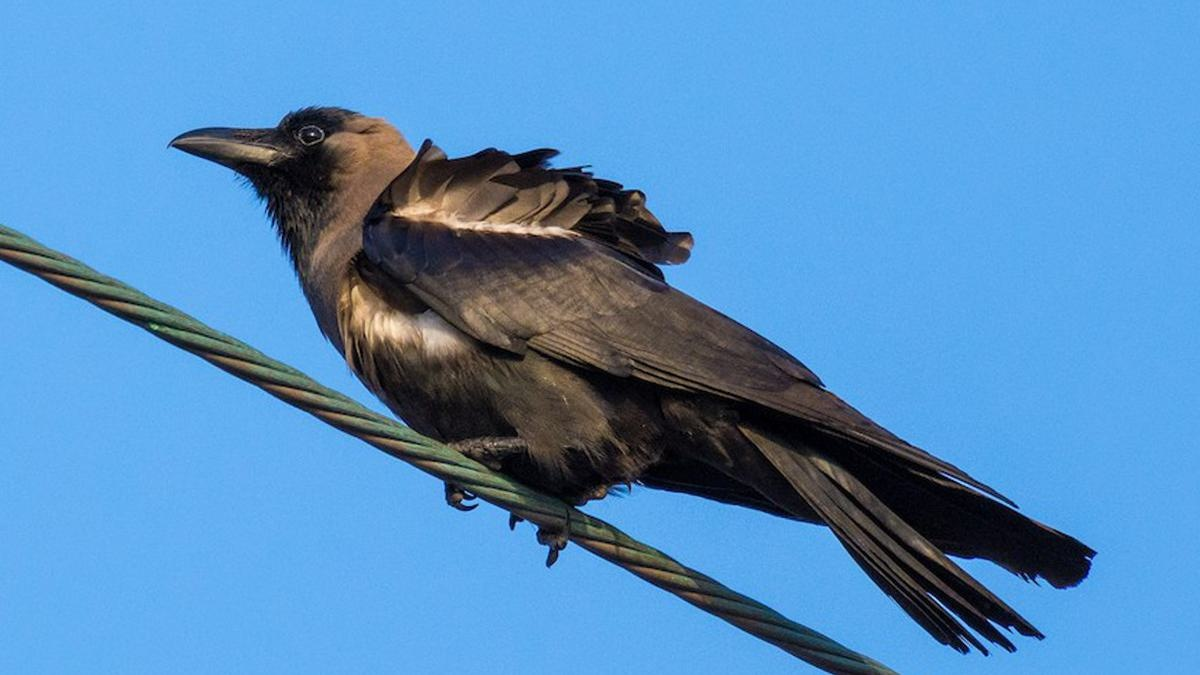crow: (163, 102, 1139, 646)
